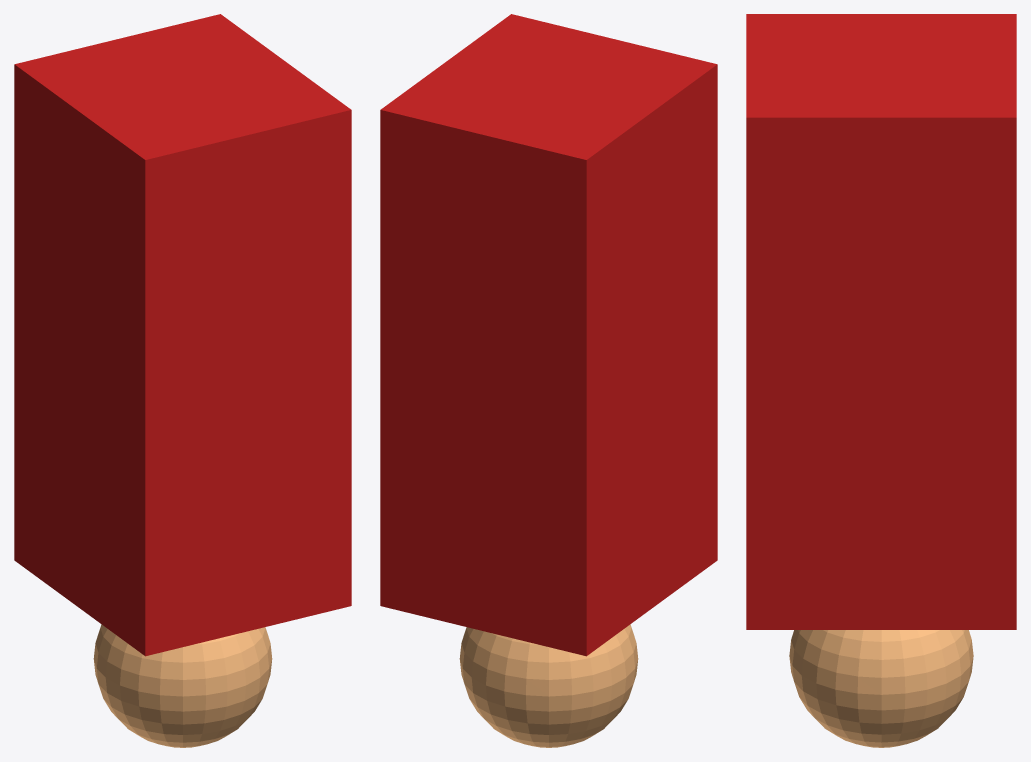
File: MiiArm.obj
3 renders of one model, left to right at view 1: azimuth 30°, elevation 25°; view 2: azimuth 150°, elevation 25°; view 3: azimuth 270°, elevation 25°, orthographic. The views are drawn at different scales.
Parts seen in each view (by area): view 1: shirt, skin; view 2: shirt, skin; view 3: shirt, skin.
Boxes of the visible parts, x1=… form: shirt: x1=14, y1=14, x2=351, y2=656; skin: x1=93, y1=624, x2=272, y2=747; shirt: x1=380, y1=14, x2=717, y2=656; skin: x1=459, y1=624, x2=638, y2=747; shirt: x1=746, y1=14, x2=1016, y2=629; skin: x1=789, y1=630, x2=973, y2=747.
Bounding box in the file's own units: 0.2 × 0.605 × 0.22.
